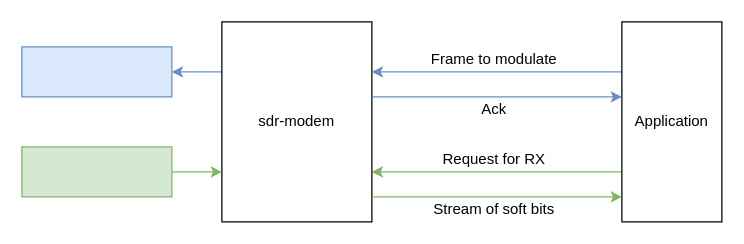
Some shapes in this 744 by 244 pixel diagram are drawn without their labels. The shapes that lost their labels are listed below. From the top down, each one's centre as x and y in pixels, then its label:
At point 96,71: "TX SDR".
At point 96,171: "RX SDR".
